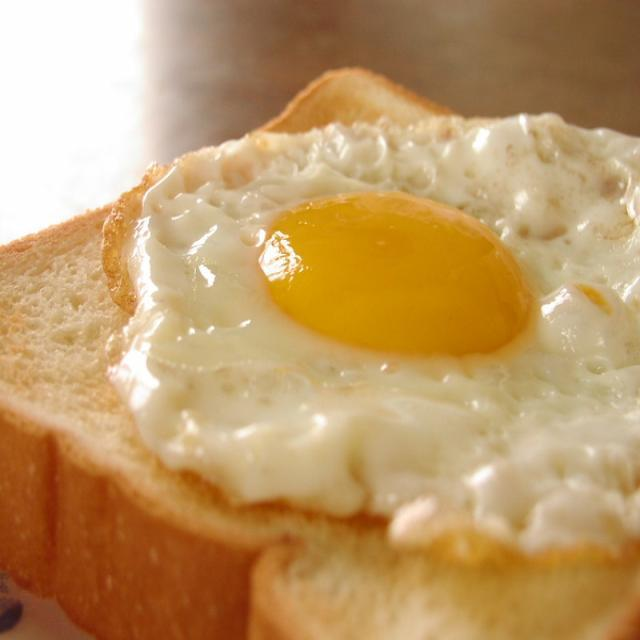Egg: (61, 94, 640, 536)
